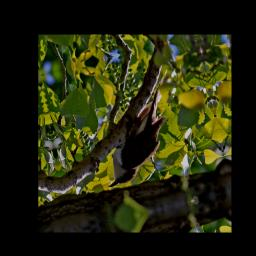Cuckoo: (89, 77, 180, 190)
